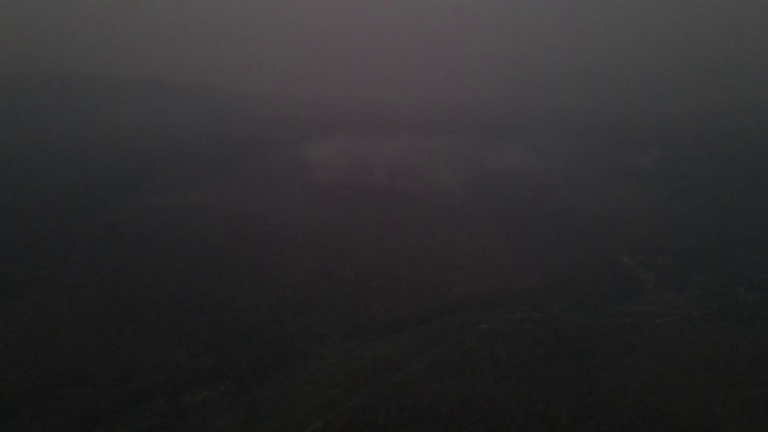smoke: (294, 132, 510, 197)
